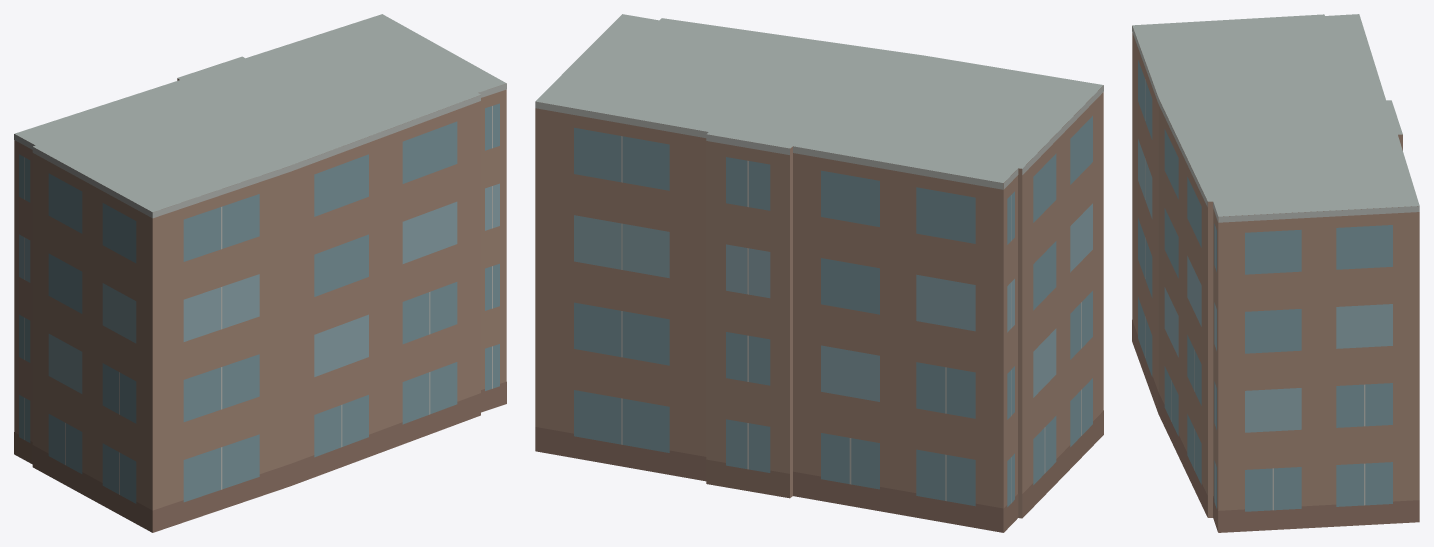
Rendered from survey-upis-32830387.glb.
The picture shows the model from 3 angles, left to right: view 1: azimuth 30°, elevation 25°; view 2: azimuth 150°, elevation 25°; view 3: azimuth 270°, elevation 25°; orthographic projection. The views are drawn at different scales.
Visible parts, largest first — view 1: survey-upis-32830387.tmp; view 2: survey-upis-32830387.tmp; view 3: survey-upis-32830387.tmp.
Part boxes in pixels (x1,y1,x2,y2): survey-upis-32830387.tmp: (14, 14, 506, 532); survey-upis-32830387.tmp: (535, 14, 1103, 532); survey-upis-32830387.tmp: (1132, 14, 1419, 532).
Bounding box in the file's own units: 17.61 × 12.8 × 10.56.
